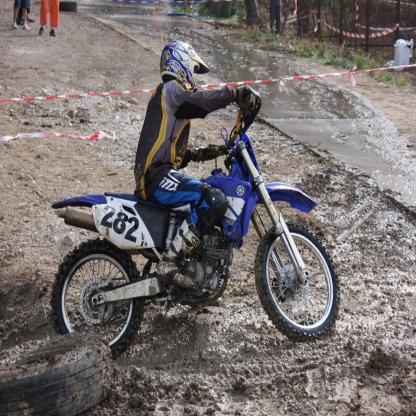Helmet: (158, 43, 201, 90)
